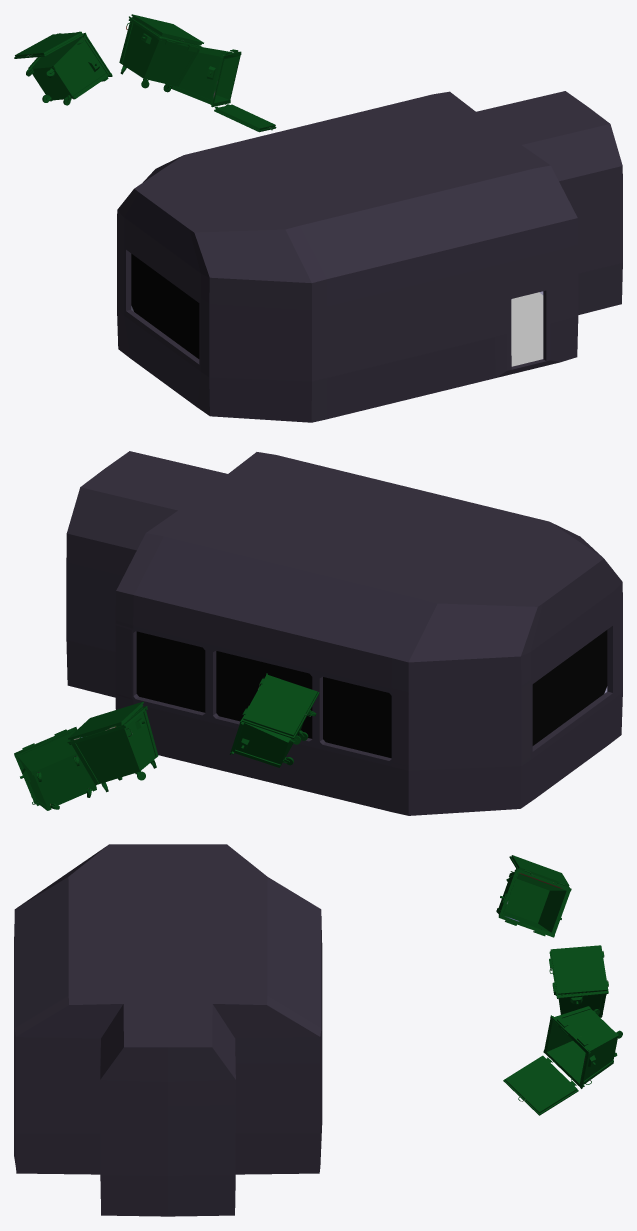
The model's file is V2_vaisseau_fenetres.fbx.
3 renders of one model, top to bottom at view 1: azimuth 30°, elevation 25°; view 2: azimuth 150°, elevation 25°; view 3: azimuth 270°, elevation 25°, orthographic. The views are drawn at different scales.
Parts seen in each view (by area): view 1: poster_2; view 2: poster_2; view 3: poster_2.
Boxes of the visible parts, x1,y1,x2,y2 form: poster_2: (14,14,622,422); poster_2: (14,451,622,815); poster_2: (14,844,622,1216).
Size of the model in its own units: 6798 by 3010 by 8555.
